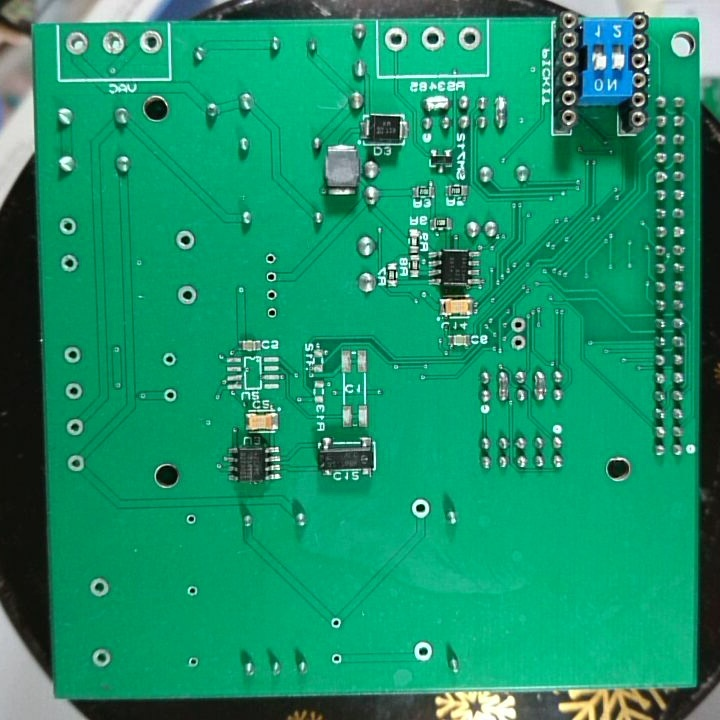F: (62, 29, 91, 59), (99, 29, 128, 58), (137, 28, 164, 58), (418, 26, 448, 53), (456, 24, 483, 54), (171, 225, 198, 254), (383, 26, 409, 55), (88, 645, 116, 671), (410, 495, 433, 523), (175, 282, 200, 307), (88, 575, 111, 601), (411, 639, 435, 663), (55, 215, 79, 239), (61, 344, 85, 367), (65, 452, 88, 475), (62, 380, 85, 403), (64, 416, 85, 440), (58, 252, 79, 275), (508, 332, 529, 353), (159, 350, 180, 370), (508, 315, 528, 335), (325, 614, 345, 633), (182, 582, 201, 602), (262, 266, 281, 286), (161, 386, 179, 406), (182, 511, 199, 530), (262, 287, 281, 303), (185, 655, 202, 672), (262, 250, 279, 267), (328, 650, 344, 667), (264, 305, 279, 321)
P: (491, 94, 511, 132), (493, 368, 511, 406), (420, 92, 451, 112), (531, 366, 547, 404)
